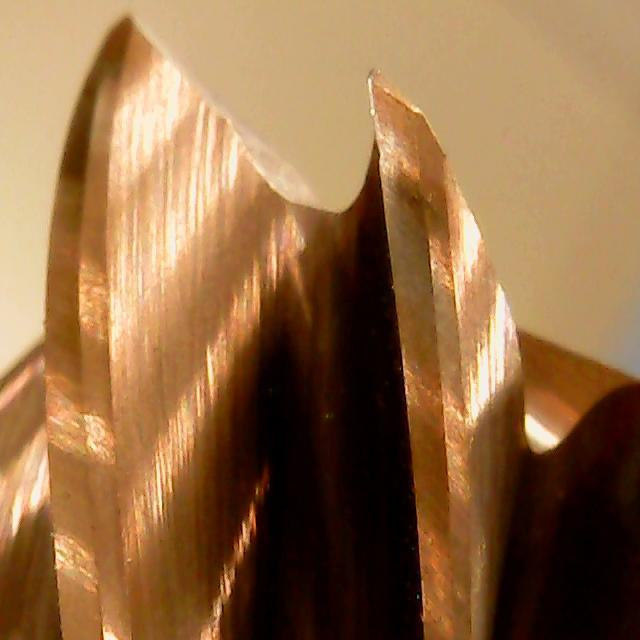Tool-wear-class-0: (349, 69, 473, 470)
